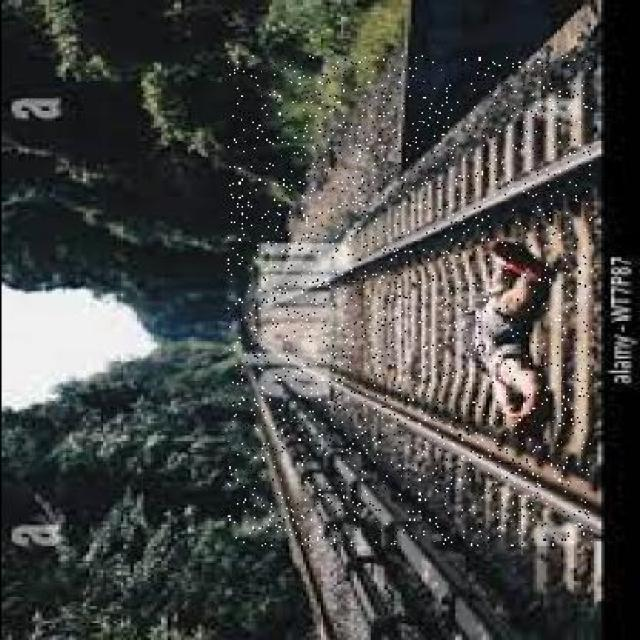danger: (462, 252, 532, 431)
rail: (227, 55, 591, 546)
